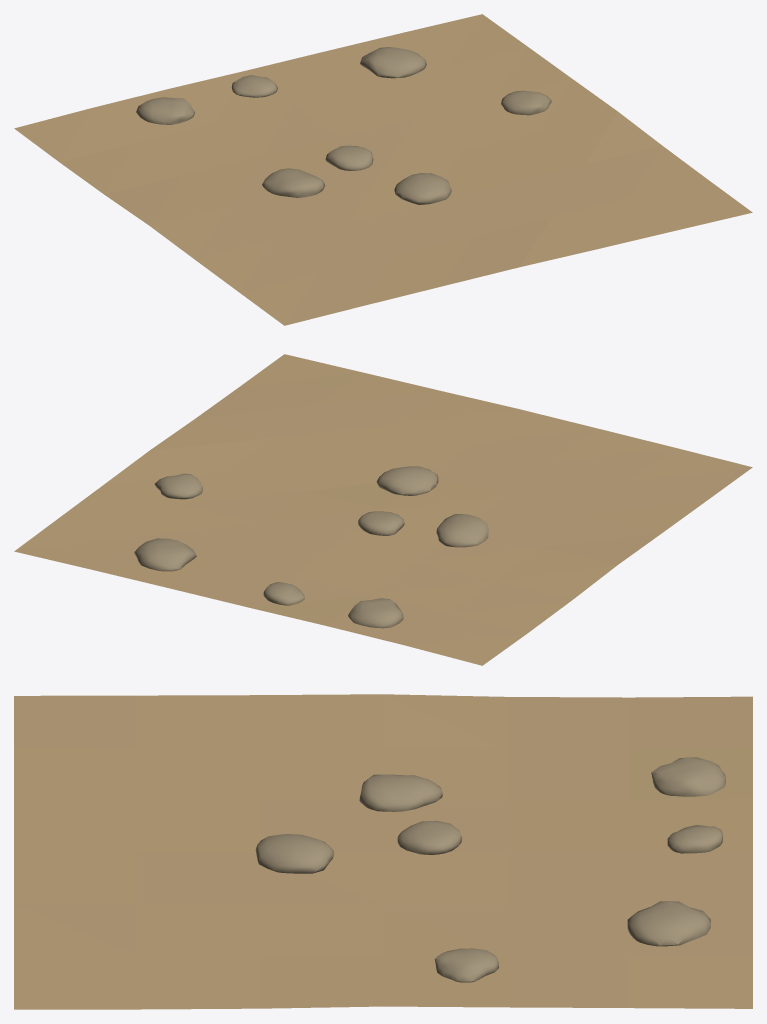
File: dirt_path.glb
The picture shows the model from 3 angles, top to bottom: view 1: azimuth 30°, elevation 25°; view 2: azimuth 150°, elevation 25°; view 3: azimuth 270°, elevation 25°; orthographic projection. The views are drawn at different scales.
Visible parts, largest first — view 1: decor-dirt_path; view 2: decor-dirt_path; view 3: decor-dirt_path.
Boxes of the visible parts, x1,y1,x2,y2 form: decor-dirt_path: [14, 14, 752, 325]; decor-dirt_path: [14, 354, 752, 665]; decor-dirt_path: [14, 694, 752, 1009].
Bounding box in the file's own units: 2 × 0.0881 × 2.
